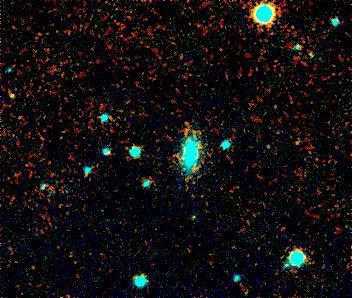star: (0, 78, 21, 108)
